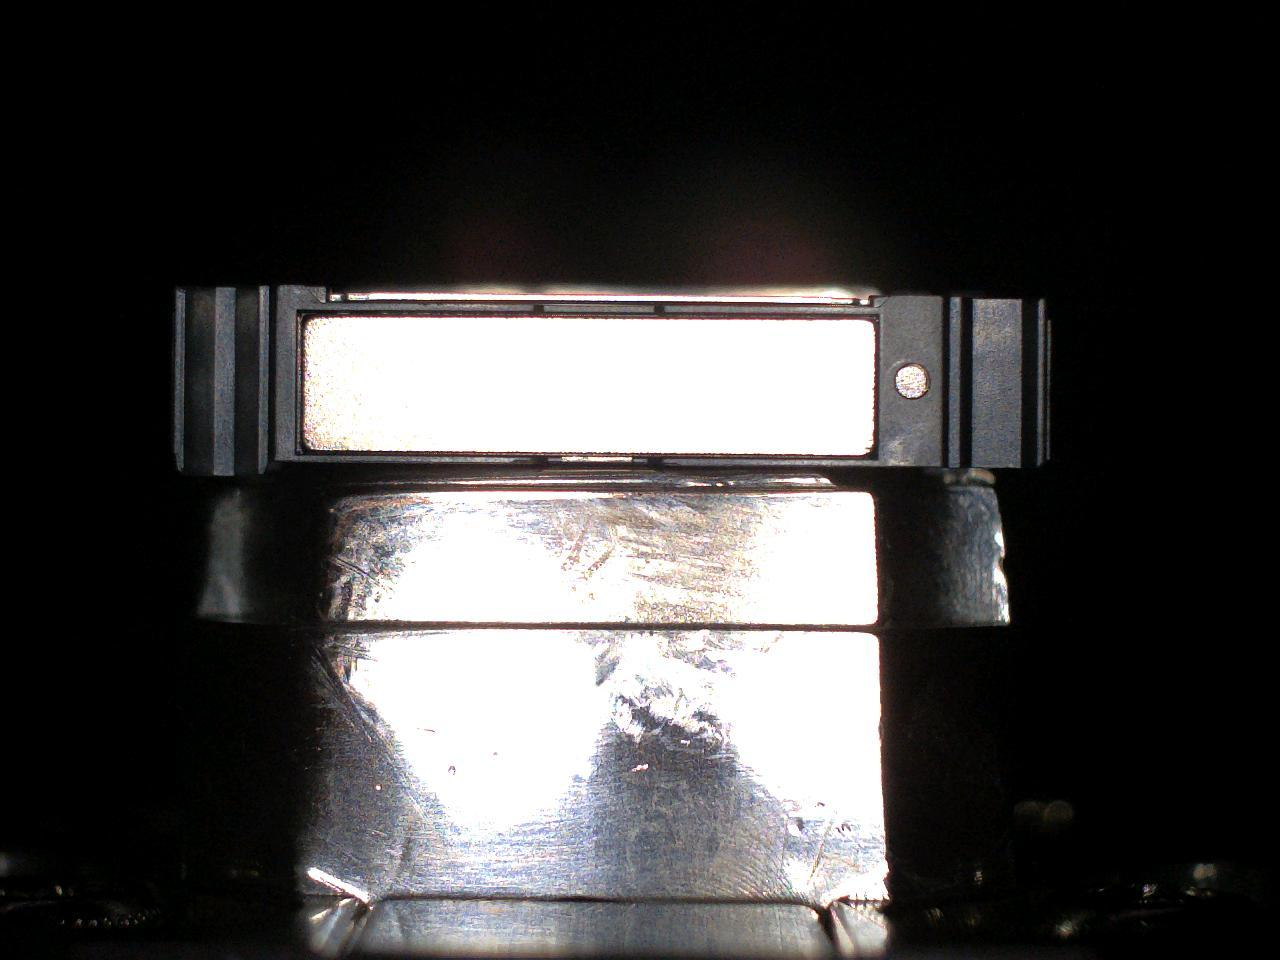frame: (175, 285, 1053, 474)
gap: (305, 310, 532, 318), (302, 450, 536, 457), (665, 313, 876, 320), (663, 453, 873, 460), (545, 311, 655, 319), (546, 453, 649, 458)
magnetic: (302, 318, 876, 456)
